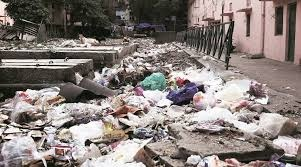rubble: (89, 63, 251, 162)
